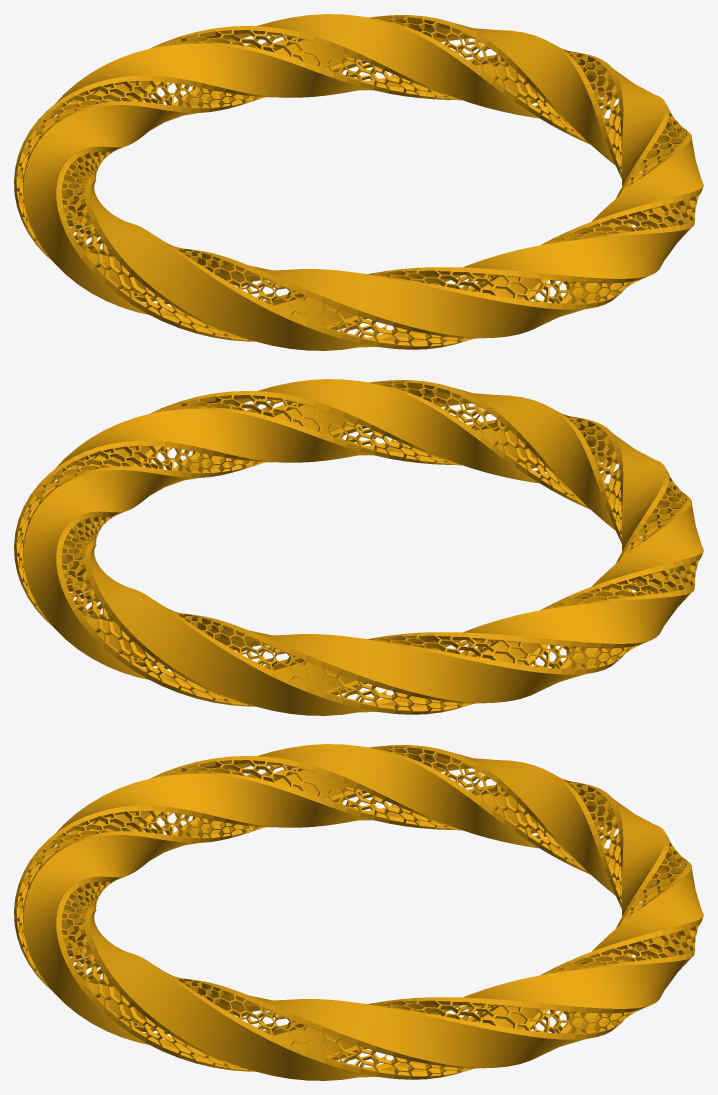
The model's file is gold_bracelet.glb.
3 views of the same model, one above another, from view 1: azimuth 30°, elevation 25°; view 2: azimuth 150°, elevation 25°; view 3: azimuth 270°, elevation 25° (orthographic).
Visible parts, largest first — view 1: Object01_02 - Default_0; view 2: Object01_02 - Default_0; view 3: Object01_02 - Default_0.
Part boxes in pixels (x1,y1,x2,y2): Object01_02 - Default_0: [14, 14, 703, 350]; Object01_02 - Default_0: [14, 379, 703, 715]; Object01_02 - Default_0: [14, 744, 703, 1080].
Size of the model in its own units: 45.02 by 5.4 by 45.39.
